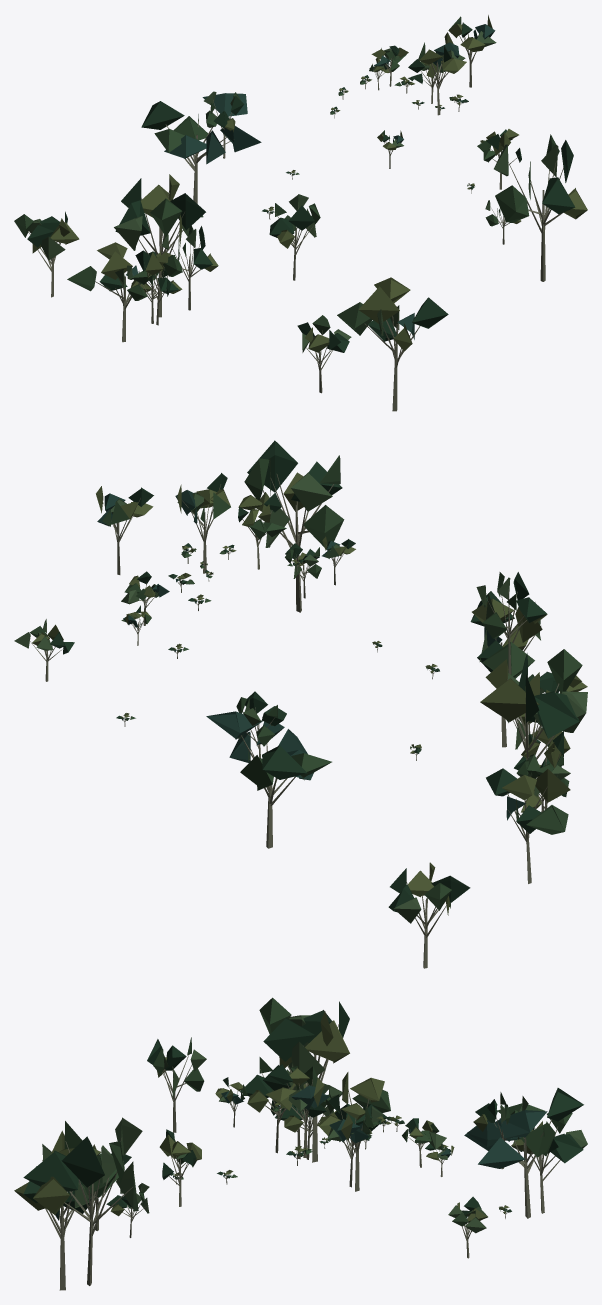
Rendered from forest_18_20.dae.
3 renders of one model, top to bottom at view 1: azimuth 30°, elevation 25°; view 2: azimuth 150°, elevation 25°; view 3: azimuth 270°, elevation 25°, orthographic. The views are drawn at different scales.
Visible parts, largest first — view 1: Node; view 2: Node; view 3: Node.
Part boxes in pixels (x1,y1,x2,y2): Node: [14, 15, 587, 411]; Node: [14, 440, 587, 968]; Node: [14, 997, 587, 1290].
Bounding box in the file's own units: 11.29 × 11.42 × 6.82.
